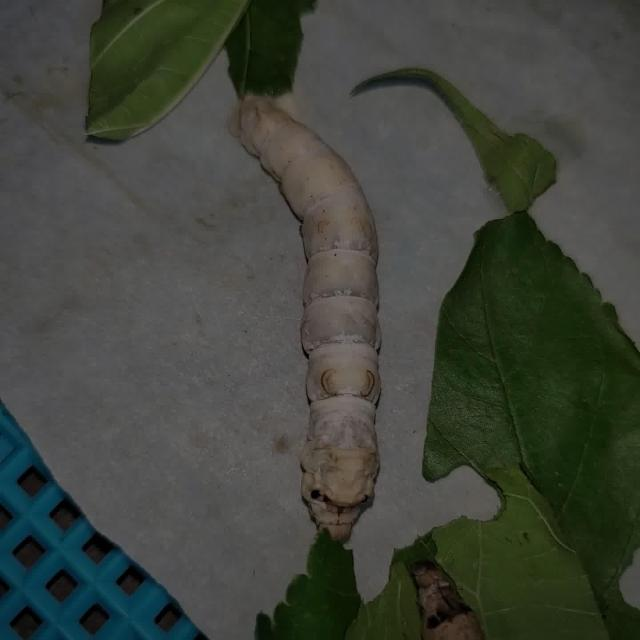Grasserie: (205, 61, 395, 584)
